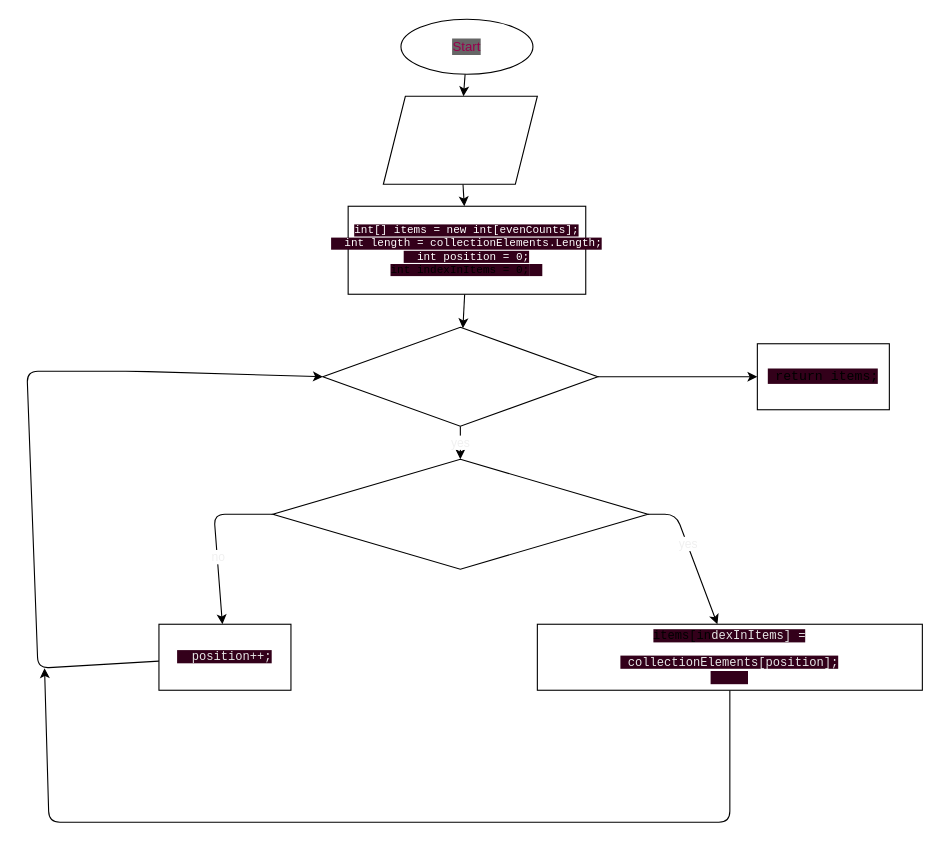
Image size: 942x850. Some labels were removed from this diagram. The shapes that lost their labels are listed below. From the top down, each one's box as (x1, y1, x2, y2) in pixels, then its label:
(382, 95, 537, 184): int[] items int length int position int indexInItems
(322, 326, 598, 426): while (position < length)
(272, 458, 648, 569): if (collectionElements[position] % 2 == 0)
